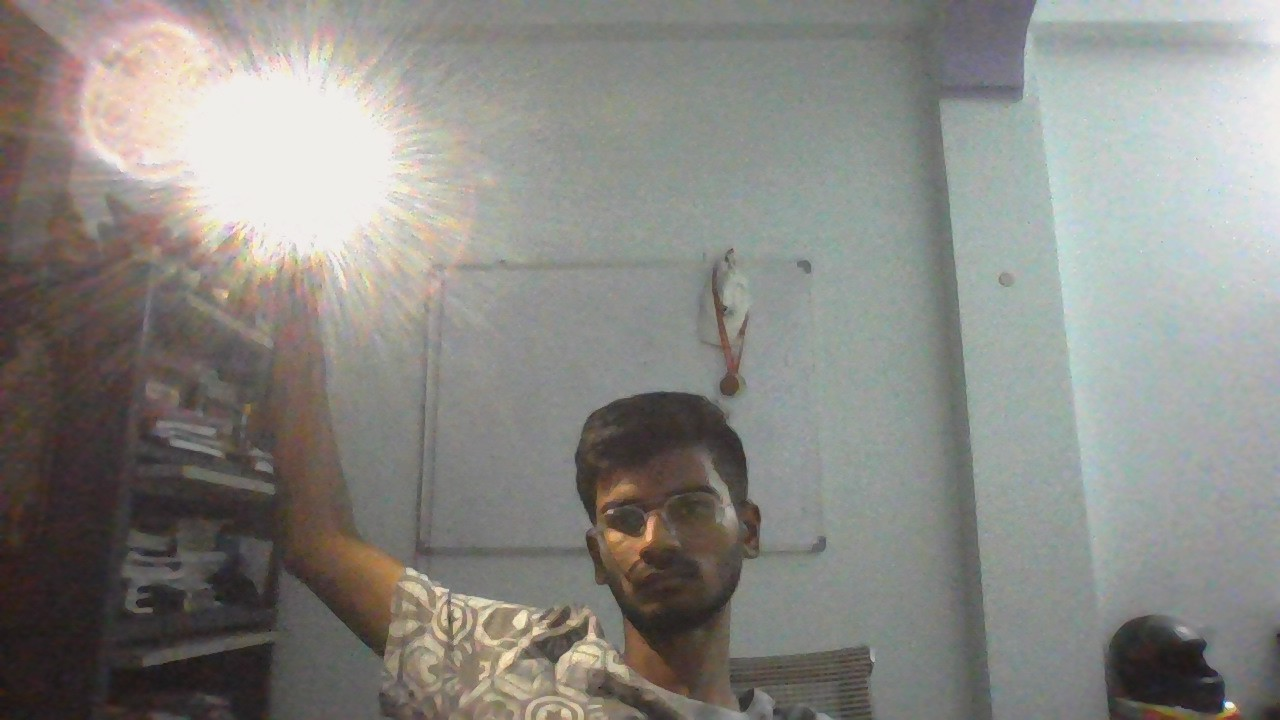Glare: (145, 59, 415, 274)
